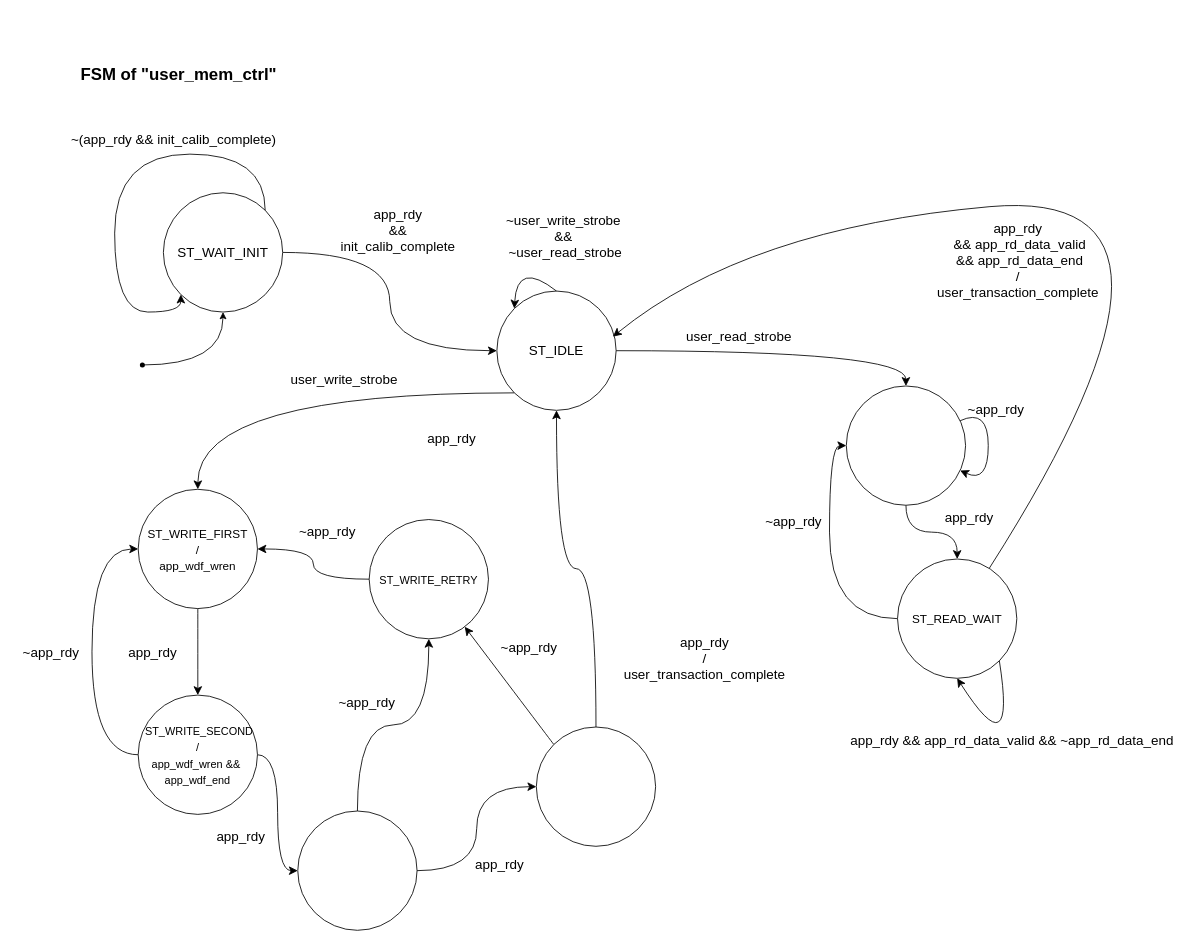
Some shapes in this 1194 by 945 pixel diagram are drawn without their labels. Here are the shapes that lost their labels. From the top down, the centre of each, then its label:
(x=905, y=445): ST_READ_SUBMIT
(x=596, y=786): ST_WRITE_DONE
(x=357, y=870): ST_WRITE_SUBMIT / app_en
